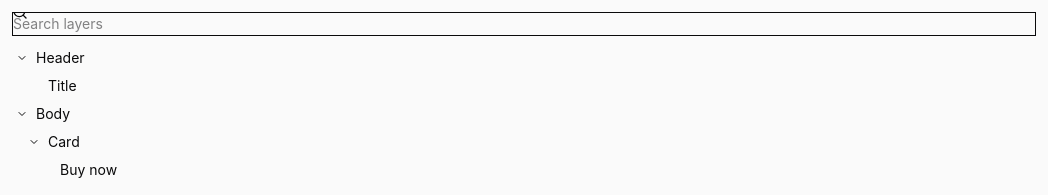
rename › renames in place, starting from the name on screen
Click the button "Card": (64, 142) left=48, top=131, right=984, bottom=154
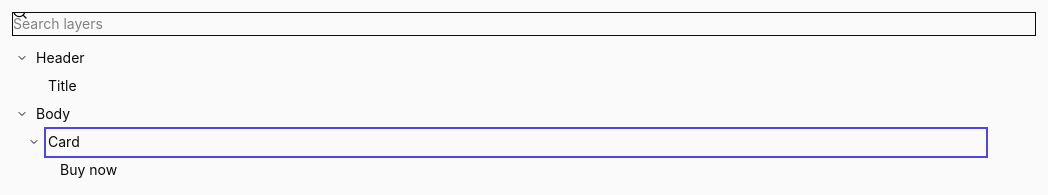
Press F2
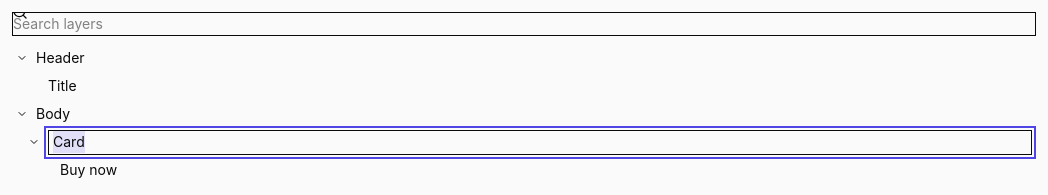
Type keys "Summary{Enter}"
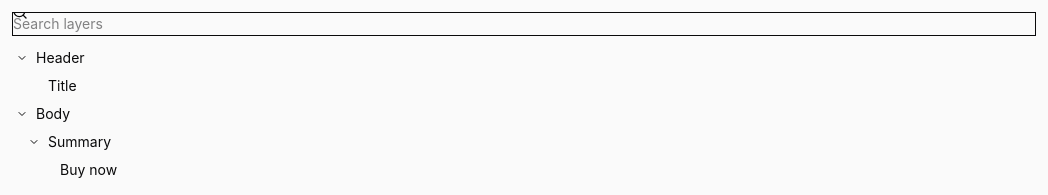
Expected: the button "Card" is not shown
Now the button "Summary" is shown, box left=48, top=131, right=984, bottom=154
